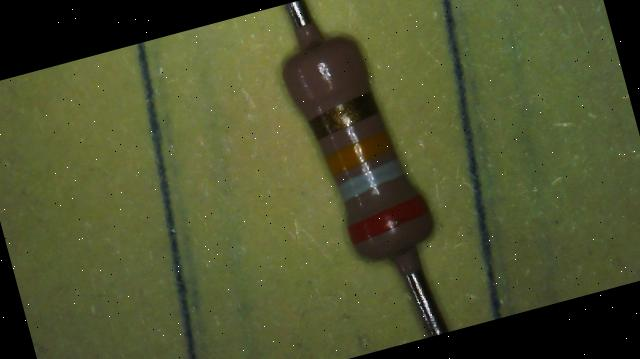gold: (306, 91, 380, 139)
orange: (344, 192, 431, 243)
resistor: (266, 9, 470, 286)
white: (336, 157, 406, 200)
yellow: (323, 128, 396, 176)
